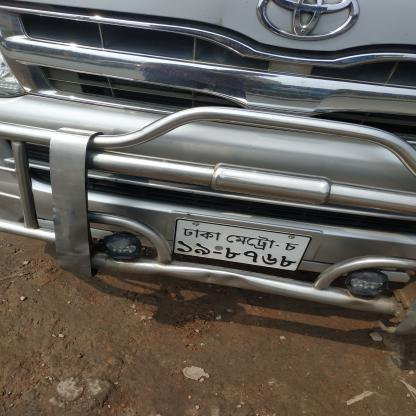license_plate: (165, 202, 333, 286)
